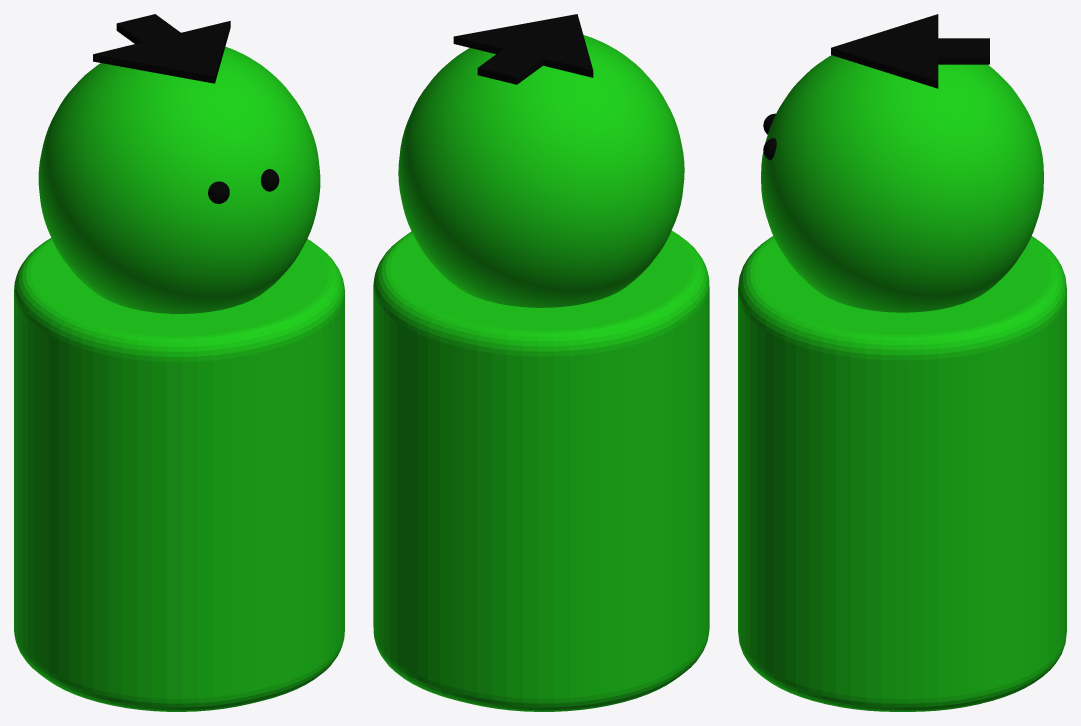
The picture shows the model from 3 angles, left to right: view 1: azimuth 30°, elevation 25°; view 2: azimuth 150°, elevation 25°; view 3: azimuth 270°, elevation 25°; orthographic projection.
Visible parts, largest first — view 1: Cube.004_Cube.014_Material.001, Cube.004_Cube.014_SVGMat; view 2: Cube.004_Cube.014_Material.001, Cube.004_Cube.014_SVGMat; view 3: Cube.004_Cube.014_Material.001, Cube.004_Cube.014_SVGMat.
Part boxes in pixels (x1,y1,x2,y2): Cube.004_Cube.014_Material.001: (14,46,344,711); Cube.004_Cube.014_SVGMat: (93,14,279,203); Cube.004_Cube.014_Material.001: (373,35,709,711); Cube.004_Cube.014_SVGMat: (453,14,593,84); Cube.004_Cube.014_Material.001: (738,55,1066,711); Cube.004_Cube.014_SVGMat: (763,14,989,160).
Size of the model in its own units: 0.2392 by 0.4819 by 0.2392.
